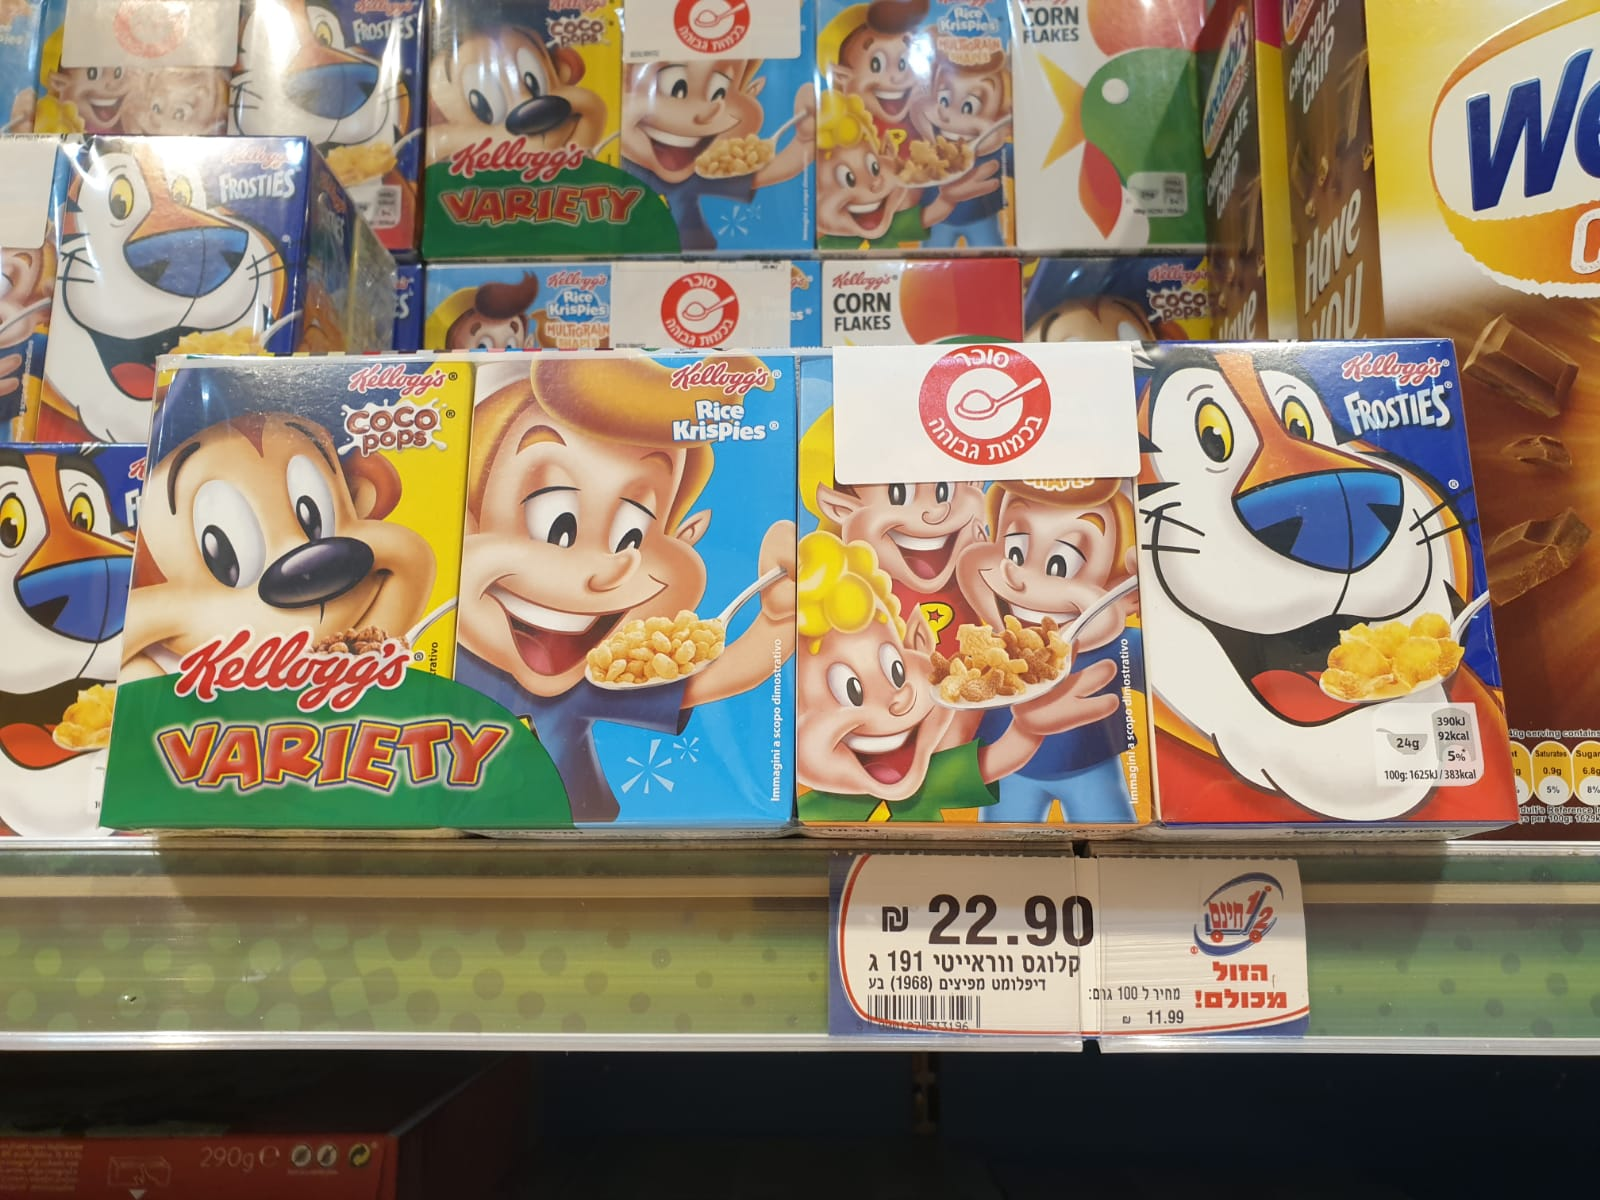sugar: (916, 345, 1054, 463), (661, 272, 740, 345), (668, 1, 752, 55)
